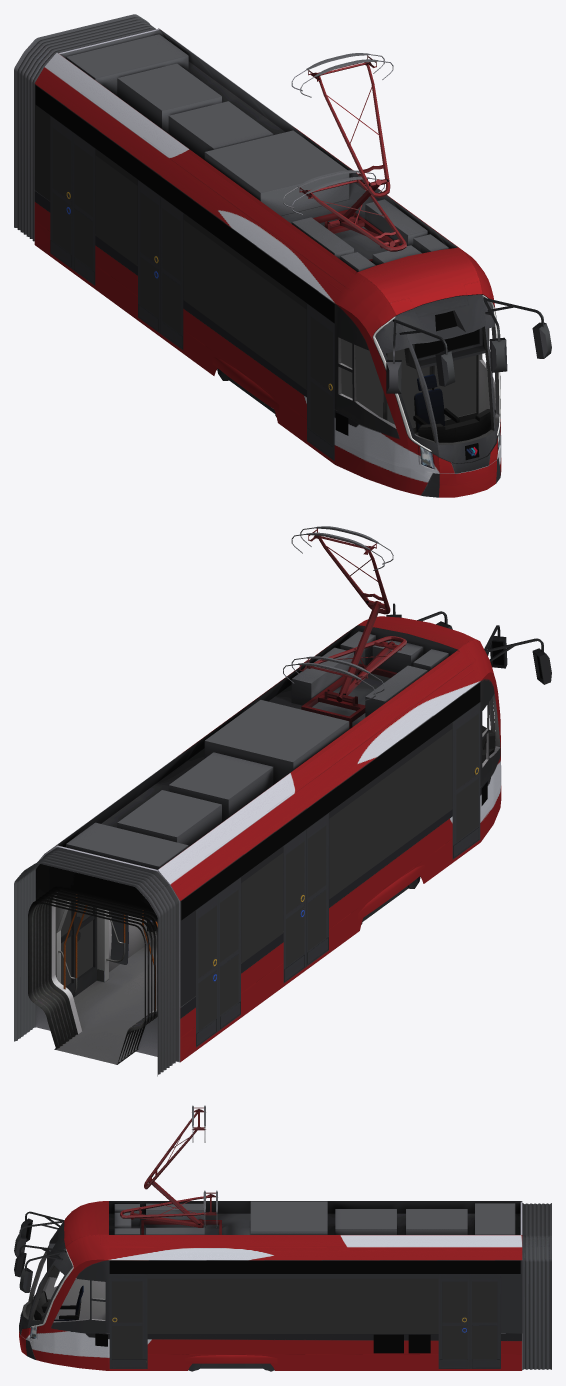
File: nevsky_a.obj
3 views of the same model, one above another, from view 1: azimuth 30°, elevation 25°; view 2: azimuth 150°, elevation 25°; view 3: azimuth 270°, elevation 25° (orthographic). The views are drawn at different scales.
Parts seen in each view (by area): view 1: body, steklo, steklo_rl, garm, salon, d_rl, steklo_rr, pant_forward, d_rr, pant_backward, zerk_backward, zerk_forward (+1 smaller); view 2: body, salon, steklo, garm, steklo_rl, d_rl, steklo_rr, pant_forward, pant_backward, d_rr, zerk_forward, steklo_ll (+2 smaller); view 3: body, steklo, garm, steklo_lr, salon, d_lr, steklo_ll, pant_forward, d_ll, pant_backward, zerk_forward, zerk_backward (+1 smaller).
Boxes of the visible parts, x1,y1,x2,y2 form: body: [34, 28, 501, 497]; steklo: [95, 155, 476, 427]; steklo_rl: [52, 128, 332, 445]; garm: [14, 14, 155, 241]; salon: [338, 326, 499, 444]; d_rl: [50, 116, 334, 460]; steklo_rr: [74, 144, 180, 333]; pant_forward: [291, 53, 400, 262]; d_rr: [72, 132, 183, 350]; pant_backward: [283, 170, 406, 251]; zerk_backward: [393, 297, 507, 386]; zerk_forward: [386, 297, 551, 393]; body: [35, 616, 501, 1062]; salon: [28, 693, 500, 1064]; steklo: [109, 729, 452, 963]; garm: [14, 847, 179, 1076]; steklo_rl: [198, 714, 478, 1031]; d_rl: [196, 702, 480, 1047]; steklo_rr: [220, 825, 326, 1016]; pant_forward: [291, 526, 396, 718]; pant_backward: [283, 636, 406, 728]; d_rr: [218, 813, 328, 1030]; zerk_forward: [386, 603, 551, 684]; steklo_ll: [77, 903, 92, 977]; body: [19, 1201, 522, 1370]; steklo: [147, 1278, 438, 1333]; garm: [522, 1203, 551, 1369]; steklo_lr: [112, 1281, 497, 1359]; salon: [22, 1245, 105, 1322]; d_lr: [109, 1274, 500, 1368]; steklo_ll: [442, 1281, 467, 1359]; pant_forward: [141, 1105, 221, 1234]; d_ll: [438, 1274, 469, 1368]; pant_backward: [120, 1190, 219, 1227]; zerk_forward: [19, 1211, 65, 1292]; zerk_backward: [14, 1220, 66, 1277].
Size of the model in its own units: 2.83 by 5.77 by 11.63.
Materials: 21 (21 with a texture image).
